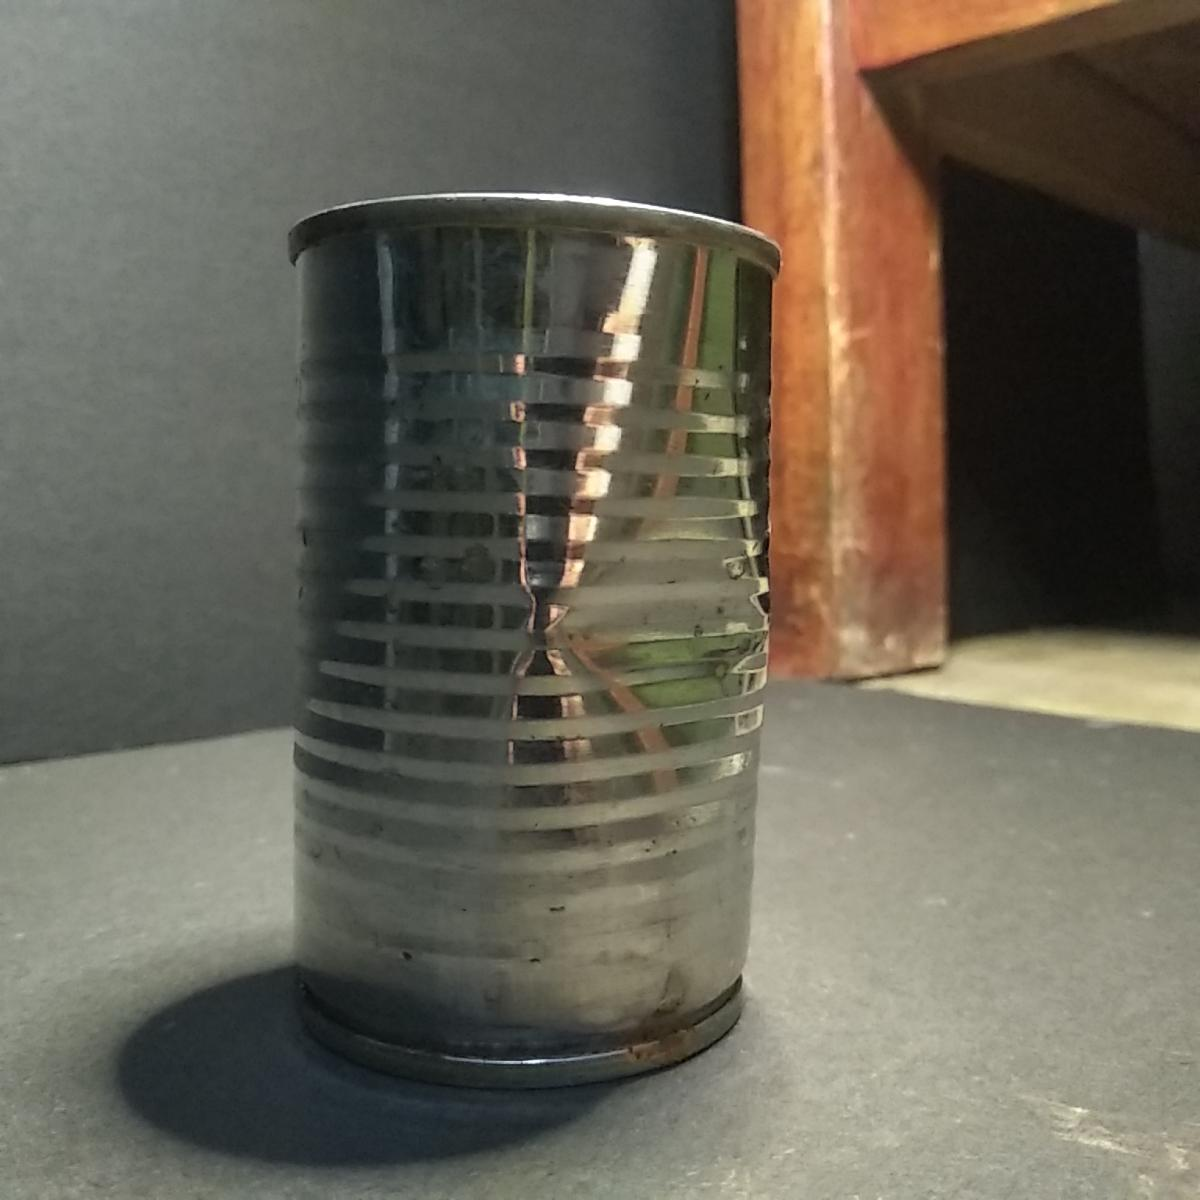Dented: (270, 178, 795, 1105)
